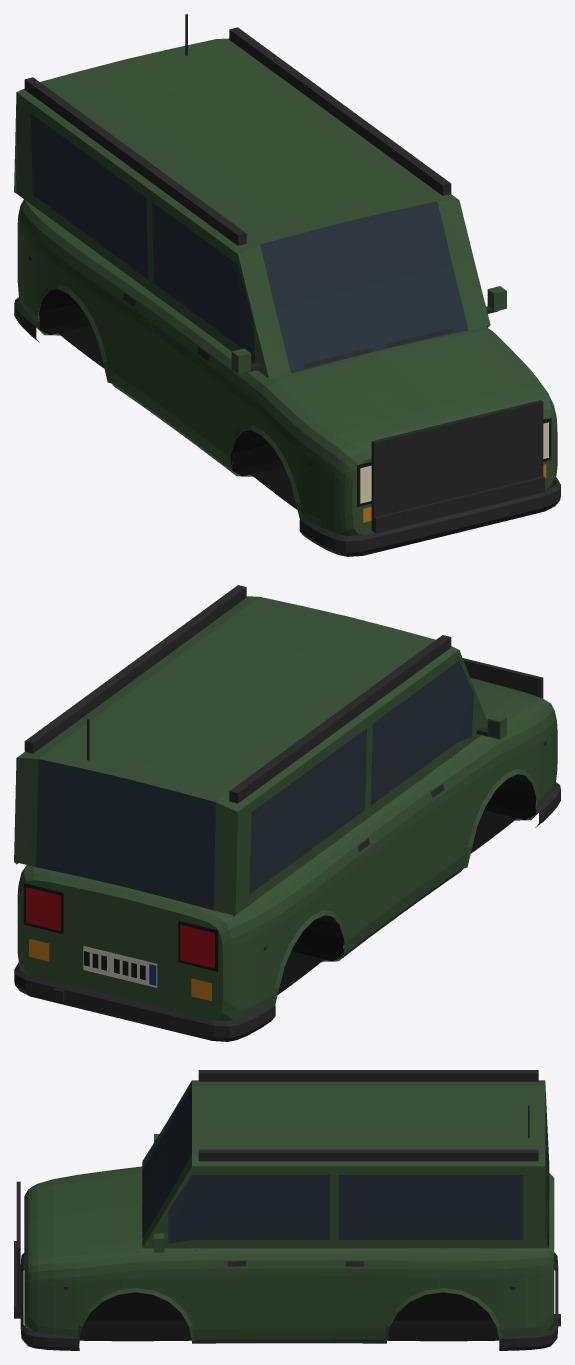
The model's file is tejon-monte.glb.
The picture shows the model from 3 angles, top to bottom: view 1: azimuth 30°, elevation 25°; view 2: azimuth 150°, elevation 25°; view 3: azimuth 270°, elevation 25°; orthographic projection. The views are drawn at different scales.
Parts seen in each view (by area): view 1: LOD0, door_FR, door_RR; view 2: LOD0, door_FR, door_RR; view 3: LOD0, door_FL, door_RL.
Part boxes in pixels (x1,y1,x2,y2): LOD0: [14, 14, 560, 556]; door_FR: [142, 191, 237, 467]; door_RR: [66, 136, 148, 403]; LOD0: [14, 585, 560, 1041]; door_FR: [370, 652, 465, 929]; door_RR: [295, 717, 376, 954]; LOD0: [14, 1070, 560, 1350]; door_FL: [196, 1166, 332, 1339]; door_RL: [335, 1166, 449, 1339].
Size of what is drawn, in the model's own units: 1.89 by 1.85 by 4.18.
